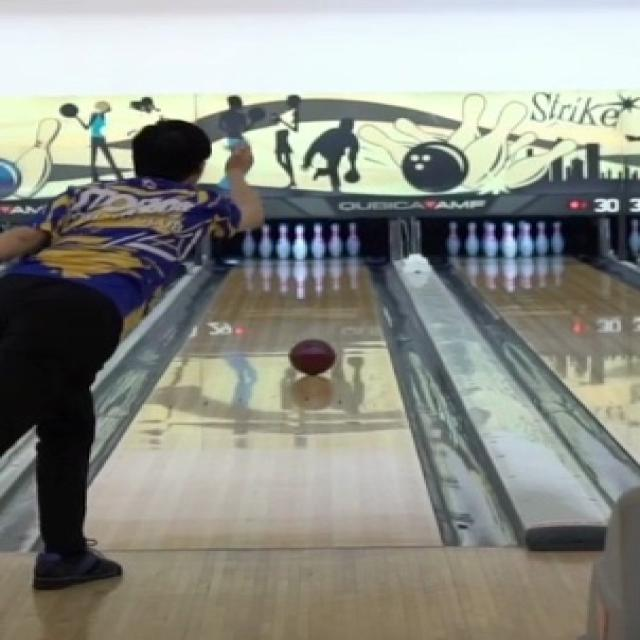alley: (91, 260, 441, 549)
balls: (288, 339, 335, 375)
bottle: (242, 221, 360, 259)
